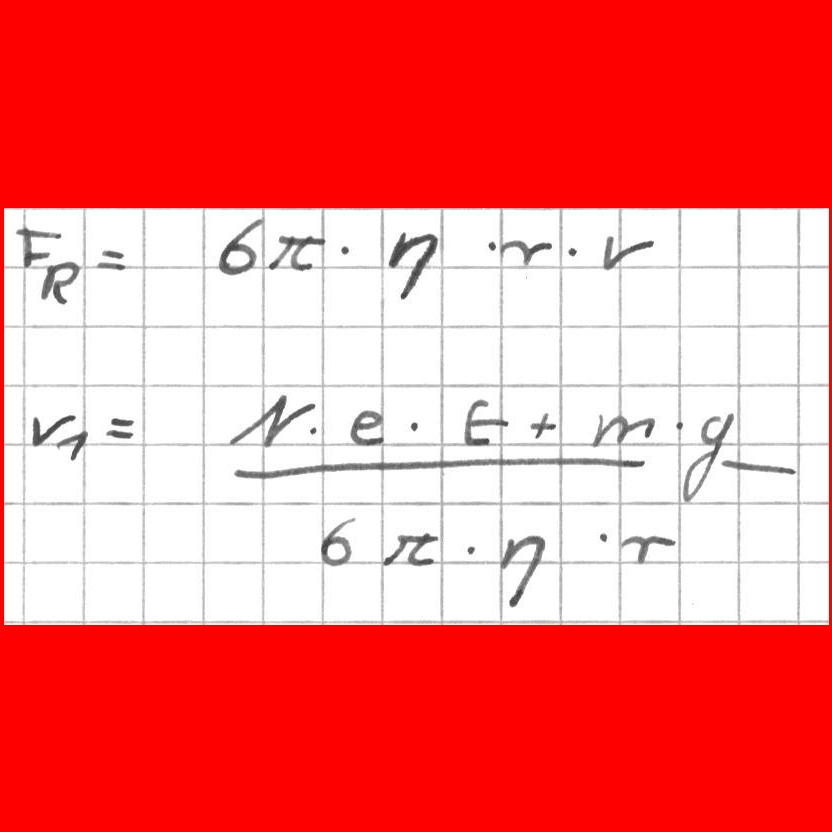Char: (227, 452, 648, 483), (679, 408, 736, 503), (228, 388, 314, 448), (494, 529, 550, 608), (385, 229, 439, 305), (219, 215, 264, 276), (264, 231, 327, 274), (589, 409, 663, 445), (458, 395, 509, 445), (618, 528, 684, 566), (380, 529, 444, 567), (321, 510, 360, 569), (597, 230, 655, 269), (35, 257, 81, 306), (16, 223, 62, 268), (502, 236, 563, 268), (714, 455, 801, 477), (348, 404, 387, 448), (30, 410, 76, 446), (51, 430, 91, 461), (528, 408, 560, 443), (95, 246, 131, 274), (103, 414, 139, 442), (405, 416, 425, 436), (300, 422, 323, 439), (596, 524, 612, 548), (462, 539, 481, 558), (563, 241, 580, 261), (338, 239, 354, 259), (673, 415, 688, 435), (486, 236, 499, 253)
